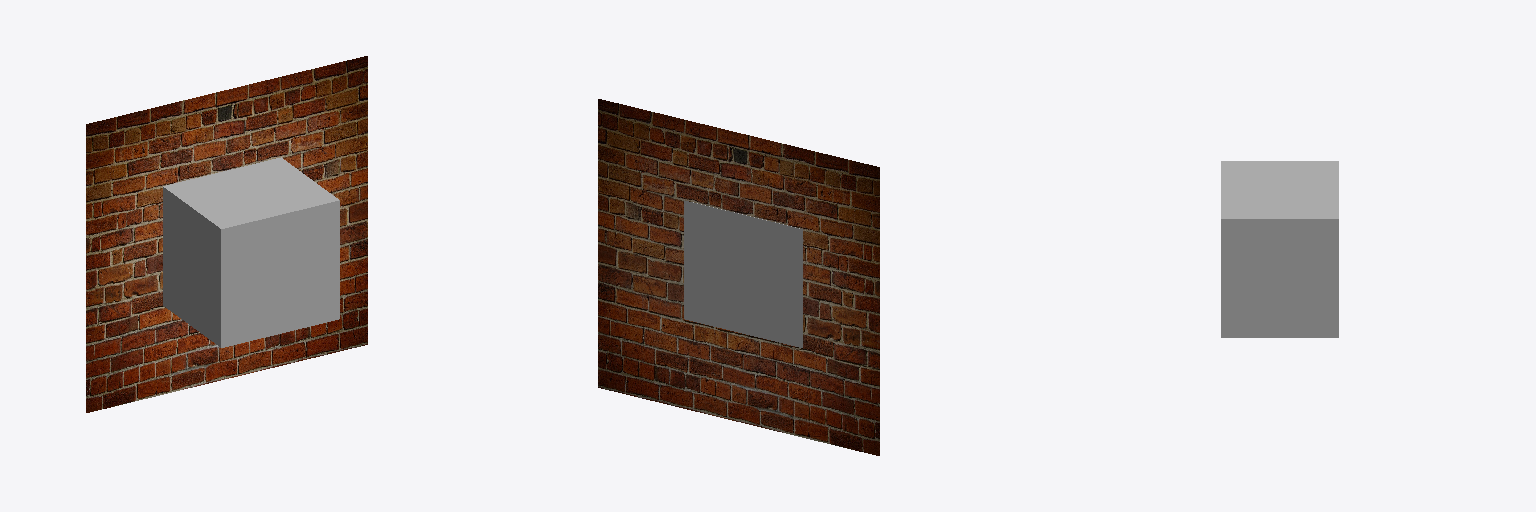
3 views of the same model, side by side, from view 1: azimuth 30°, elevation 25°; view 2: azimuth 150°, elevation 25°; view 3: azimuth 270°, elevation 25° (orthographic).
Visible parts, largest first — view 1: Plane01, Box02; view 2: Plane01, Box02; view 3: Box02.
Part boxes in pixels (left/top/right/bottom): Plane01: left=86, top=56, right=367, bottom=412; Box02: left=163, top=157, right=339, bottom=347; Plane01: left=598, top=99, right=879, bottom=455; Box02: left=684, top=200, right=802, bottom=347; Box02: left=1221, top=161, right=1338, bottom=337.
Bounding box in the file's own units: 390 × 382 × 141.
4 materials, 3 textured.